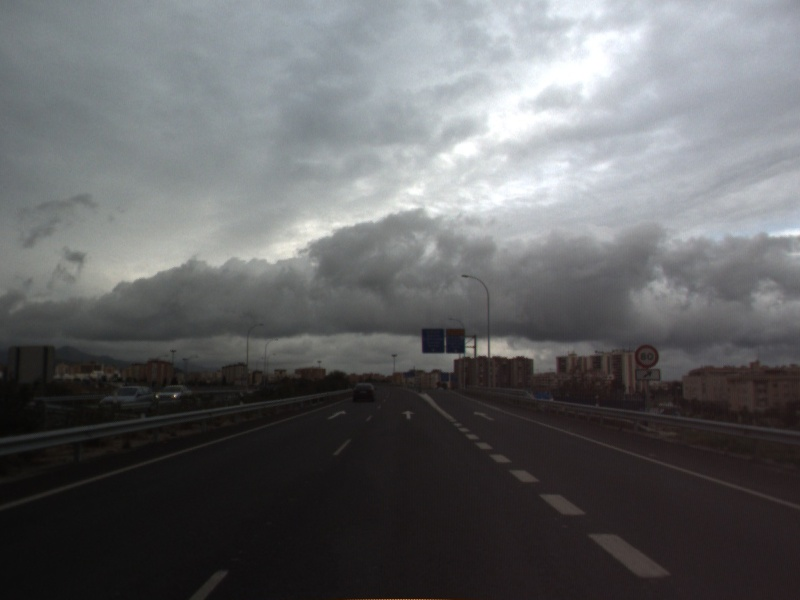STRAIGHT: (471, 409, 497, 423), (325, 408, 349, 422), (399, 409, 418, 421)
